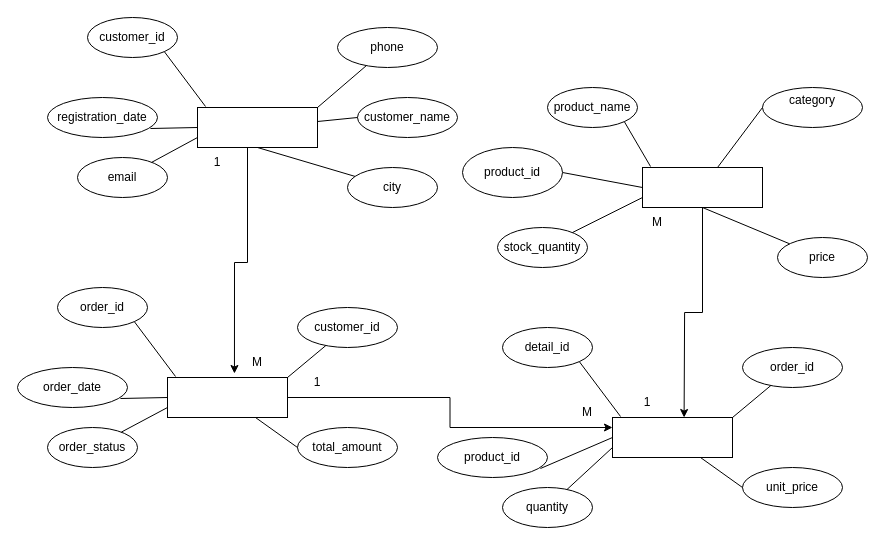
This 885x545 diagram has some shape labels left out. Each missing label, with the box of its shape:
customer: (196, 106, 318, 148)
order_details: (612, 416, 732, 458)
orders: (166, 376, 288, 418)
product: (642, 166, 762, 208)
